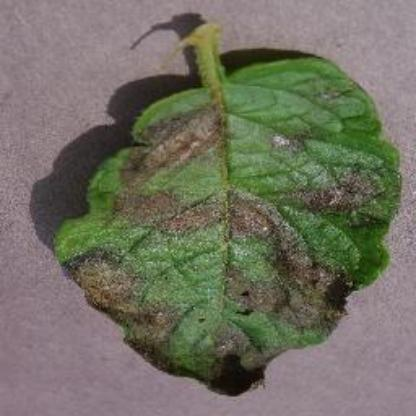Late-Blight: (53, 14, 403, 398)
